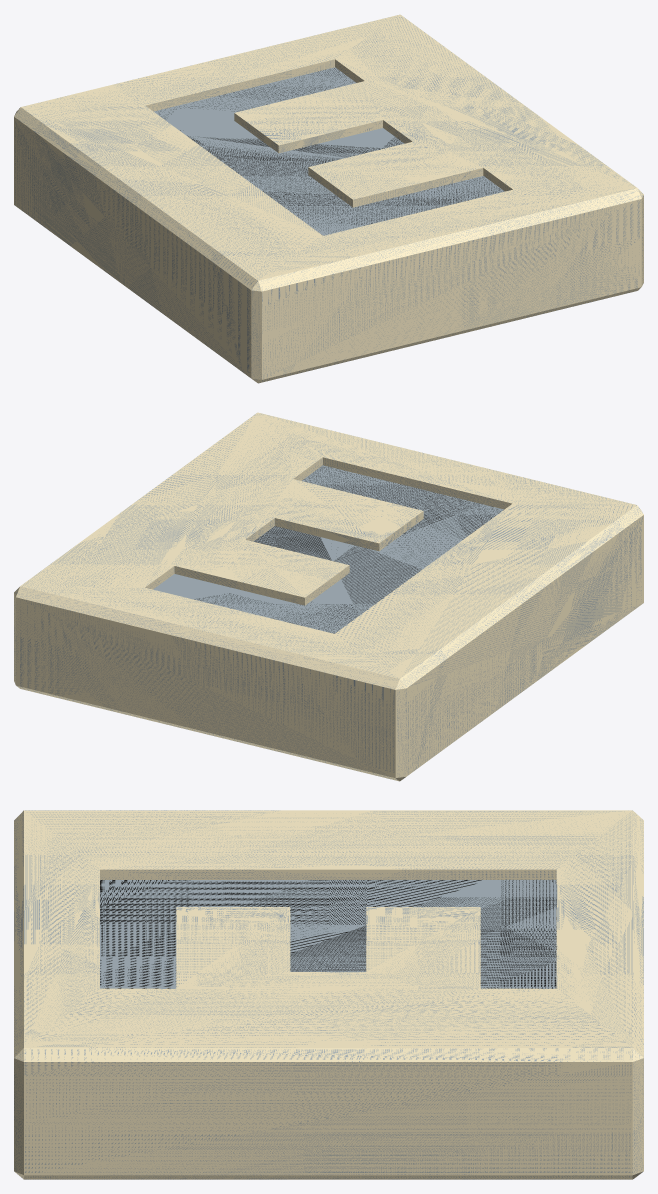
The model's file is Boardgame_Anagram_Tile_E.fbx.
3 renders of one model, top to bottom at view 1: azimuth 30°, elevation 25°; view 2: azimuth 150°, elevation 25°; view 3: azimuth 270°, elevation 25°, orthographic. The views are drawn at different scales.
Parts seen in each view (by area): view 1: Model; view 2: Model; view 3: Model.
Part boxes in pixels (box(x1,y1,x2,y2)): Model: box(14, 14, 643, 383); Model: box(14, 412, 643, 781); Model: box(14, 810, 643, 1179).
Size of the model in its own units: 195 by 48.83 by 212.
